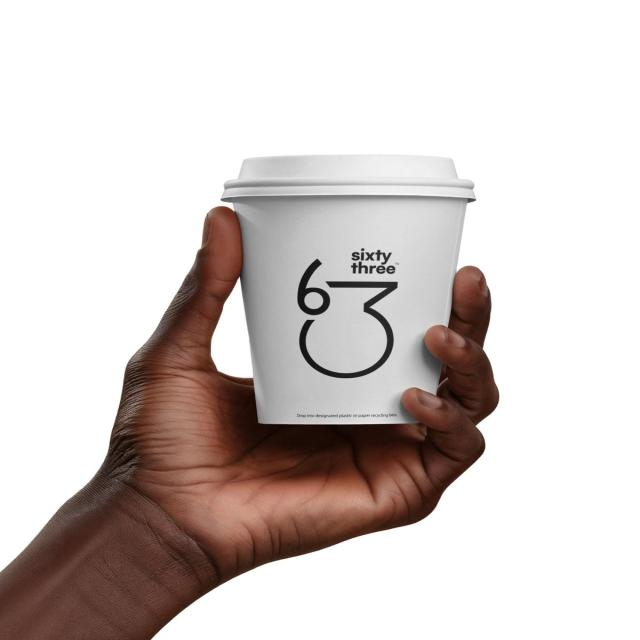paper cup: (222, 154, 477, 425)
